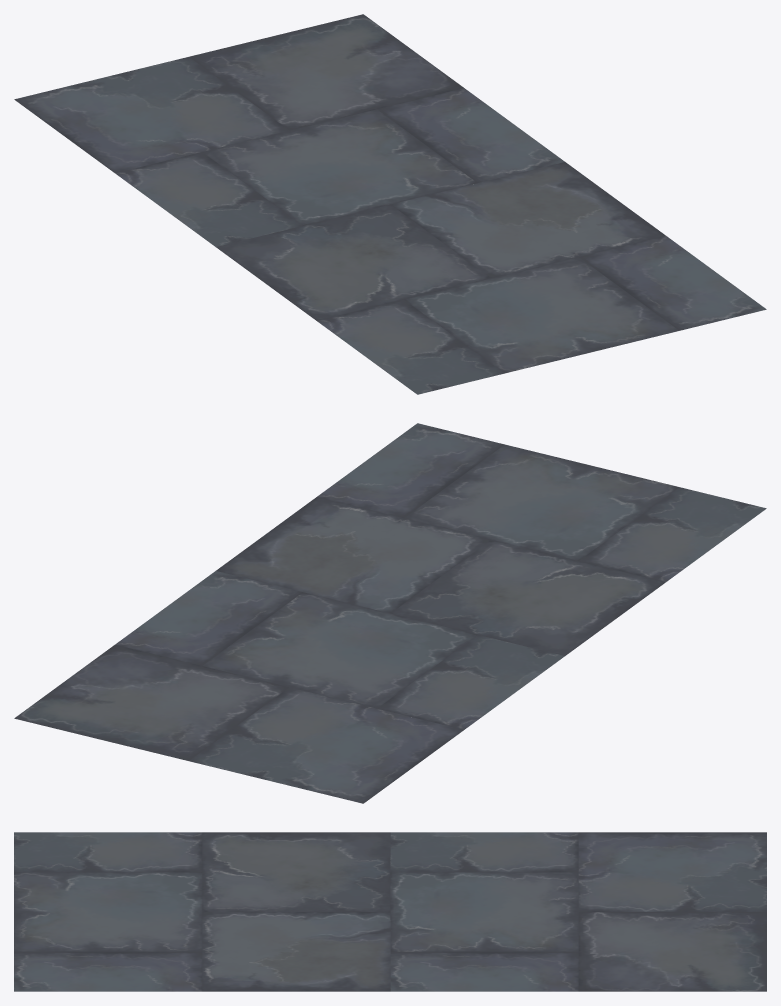
The model's file is Castle Ground X Dark 4x2.fbx.
3 renders of one model, top to bottom at view 1: azimuth 30°, elevation 25°; view 2: azimuth 150°, elevation 25°; view 3: azimuth 270°, elevation 25°, orthographic. The views are drawn at different scales.
Parts seen in each view (by area): view 1: Castle Ground X Dark 4x2; view 2: Castle Ground X Dark 4x2; view 3: Castle Ground X Dark 4x2.
Boxes of the visible parts, x1,y1,x2,y2 form: Castle Ground X Dark 4x2: (14,14,766,394); Castle Ground X Dark 4x2: (14,423,766,803); Castle Ground X Dark 4x2: (14,832,766,991).
Bounding box in the file's own units: 1.5 × 1.04e-06 × 3.
